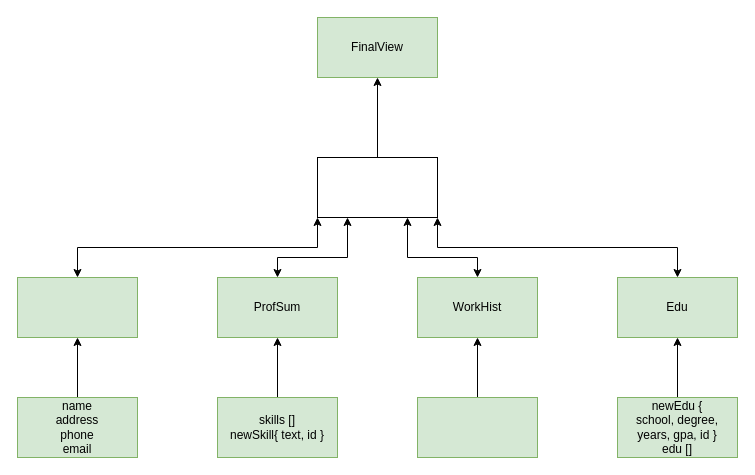
Image size: 755x475. Some labels were removed from this diagram. Here are the shapes that lost their labels. From the top down, the centre of each, then its label:
the point at 377,187: App
the point at 77,307: General
the point at 477,427: company title newDuty { duty, id } duties []
